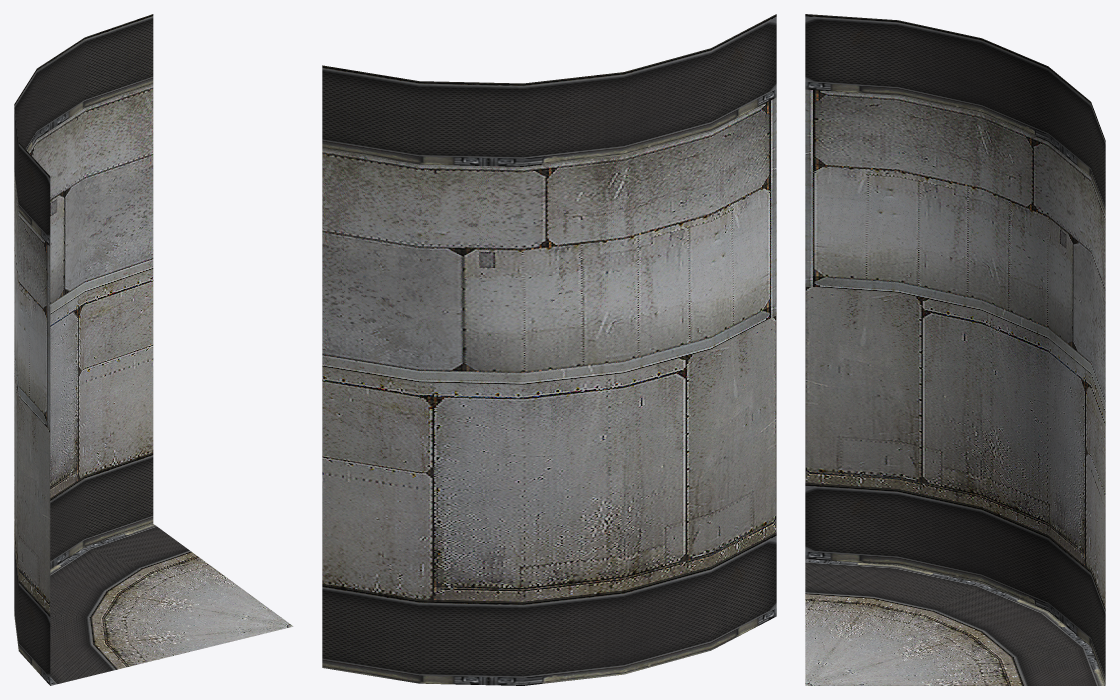
File: Wall_B_Mid4mts_22.fbx
3 renders of one model, left to right at view 1: azimuth 30°, elevation 25°; view 2: azimuth 150°, elevation 25°; view 3: azimuth 270°, elevation 25°, orthographic. The views are drawn at different scales.
Parts seen in each view (by area): view 1: Wall_B_Mid4mts_22; view 2: Wall_B_Mid4mts_22; view 3: Wall_B_Mid4mts_22.
Part boxes in pixels (x1,y1,x2,y2): Wall_B_Mid4mts_22: [14, 14, 293, 685]; Wall_B_Mid4mts_22: [322, 14, 776, 685]; Wall_B_Mid4mts_22: [805, 14, 1105, 685].
Size of the model in its own units: 200 by 400 by 200.
